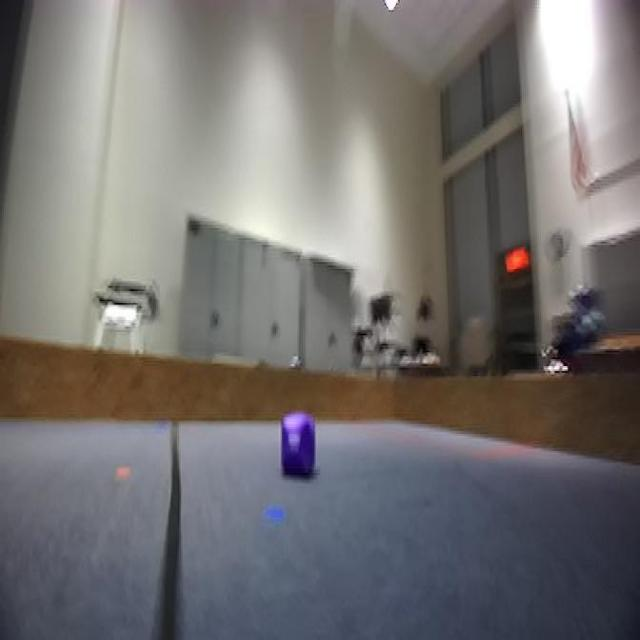frc_cube: (280, 417, 318, 482)
